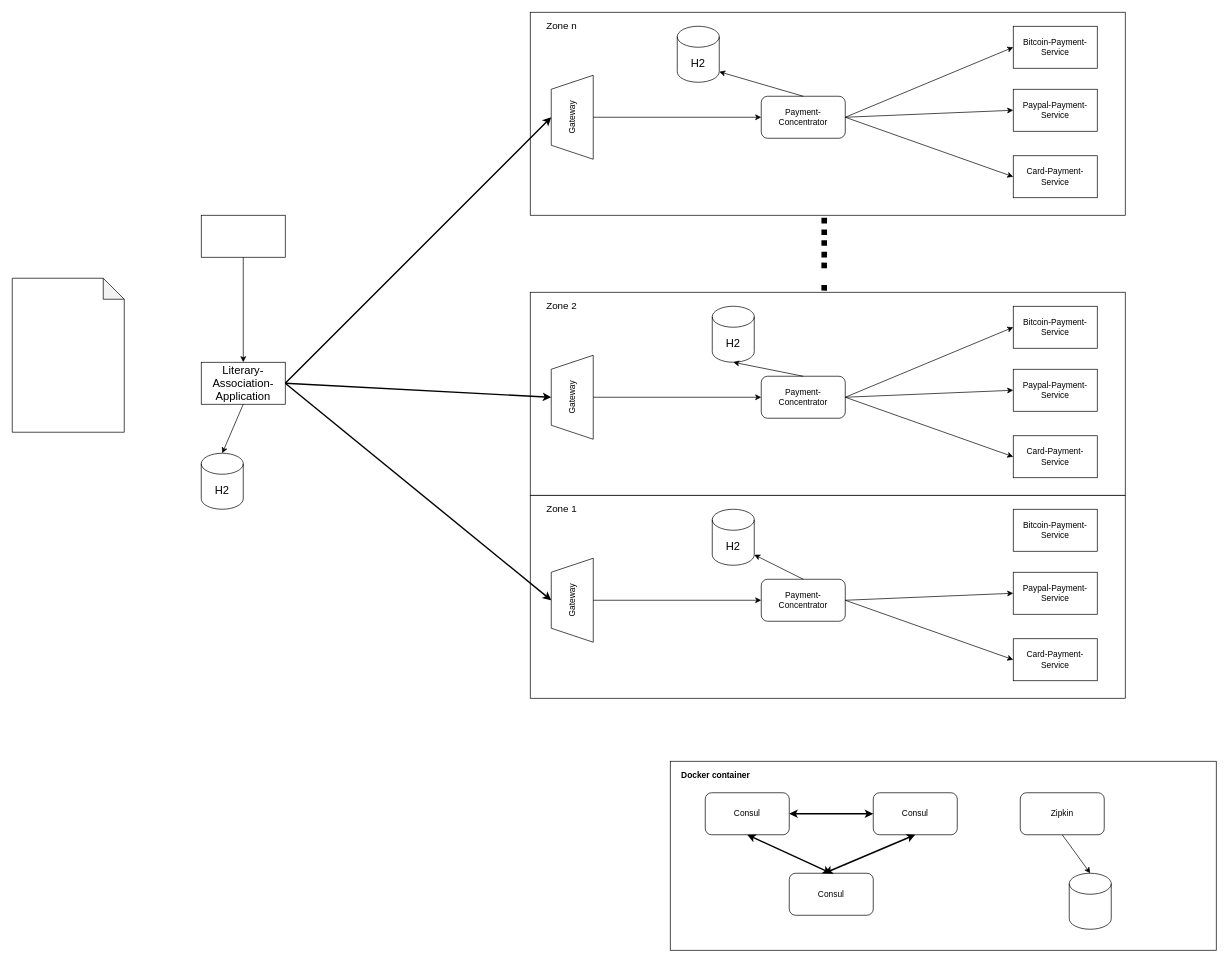
The diagram is 1229 pixels wide and 963 high, and some of its shapes have lost their labels. Here are the shapes that lost their labels. From the top down, the box of each, then its label:
(201, 215, 285, 257): Literary-Association-Frontend
(12, 278, 124, 432): Includes Camunda BPMN engine and ElasticSearch
(1069, 873, 1111, 929): MySql
